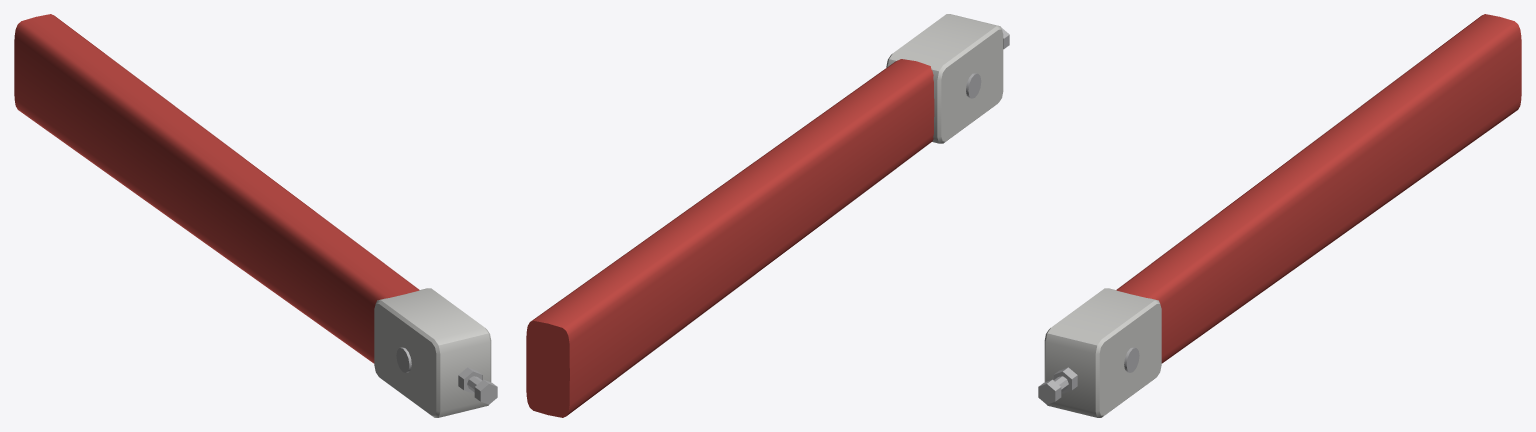
The model's file is box_arm.glb.
The picture shows the model from 3 angles, left to right: view 1: azimuth 30°, elevation 25°; view 2: azimuth 150°, elevation 25°; view 3: azimuth 330°, elevation 25°; orthographic projection.
Parts seen in each view (by area): view 1: lod0; view 2: lod0; view 3: lod0.
Part boxes in pixels (box(x1,y1,x2,y2)): lod0: box(14, 14, 497, 417); lod0: box(526, 14, 1009, 417); lod0: box(1038, 14, 1521, 417).
Size of what is drawn, in the model's own units: 0.048 by 0.07 by 0.628.
